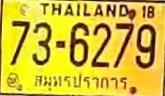2: (91, 22, 110, 67)
3: (31, 21, 51, 65)
6: (69, 22, 88, 66)
7: (10, 20, 30, 65), (113, 22, 133, 67)
9: (135, 23, 155, 68)
SPK: (33, 70, 131, 93)
